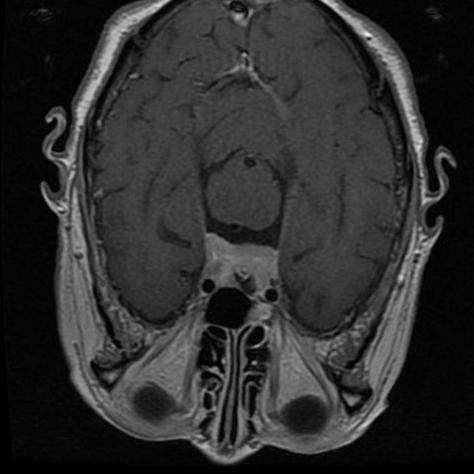Tumour-Pituitary: (201, 240, 288, 286)
